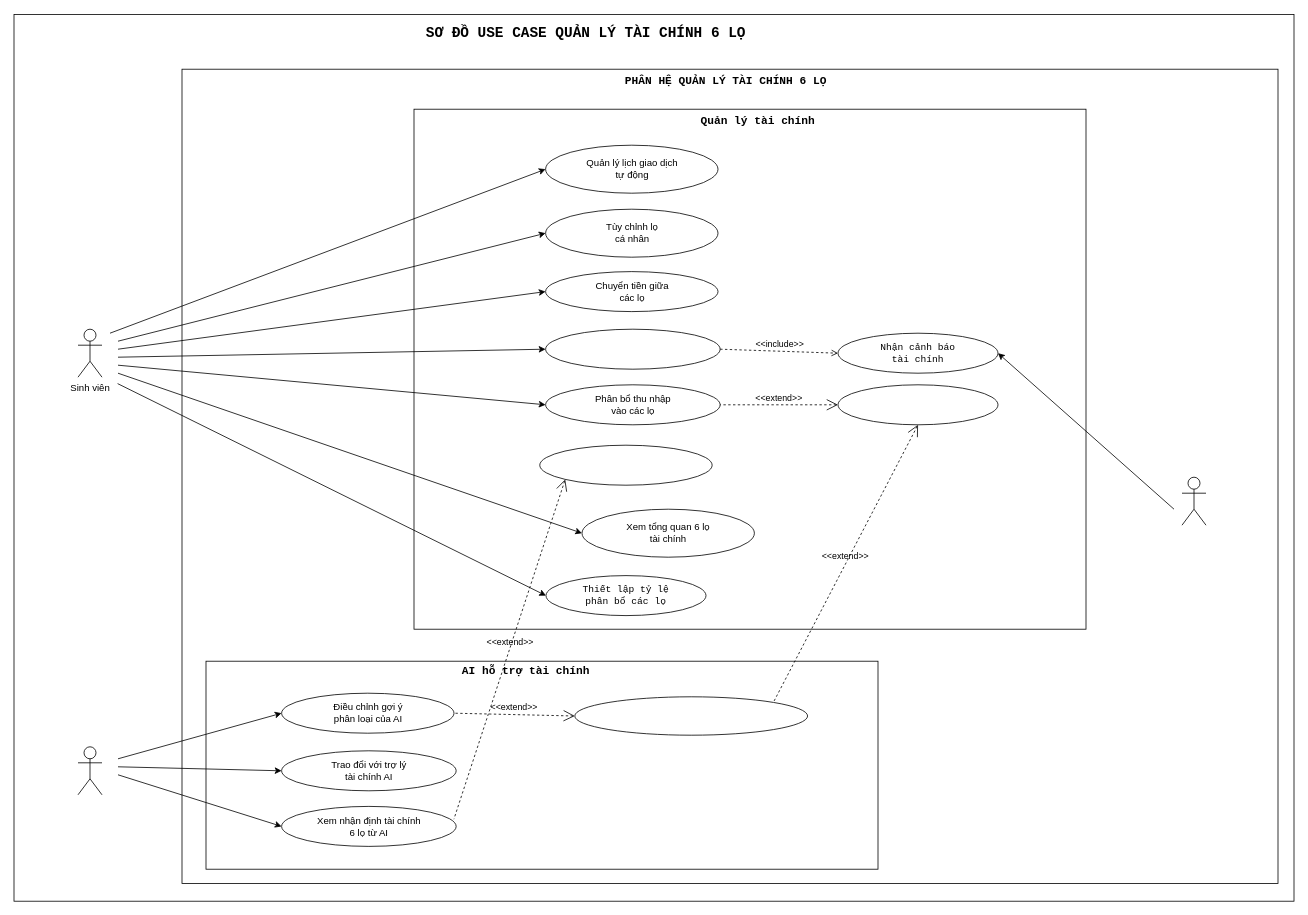
Image size: 1308x915. Some labels were removed from this diagram. The shapes that lost their labels are listed below. From the top down, each one's centre as x and y in pixels, then its label:
At (x=632, y=348): "Cấu hình cảnh báo ngân sách".
At (x=917, y=404): "Ghi nhận khoản thu hoặc chi".
At (x=625, y=464): "Xem báo cáo thu chi".
At (x=1193, y=500): "Firebase Cloud Messaging".
At (x=691, y=715): "AI gợi ý lọ cho giao dịch".
At (x=89, y=770): "AI Services".
